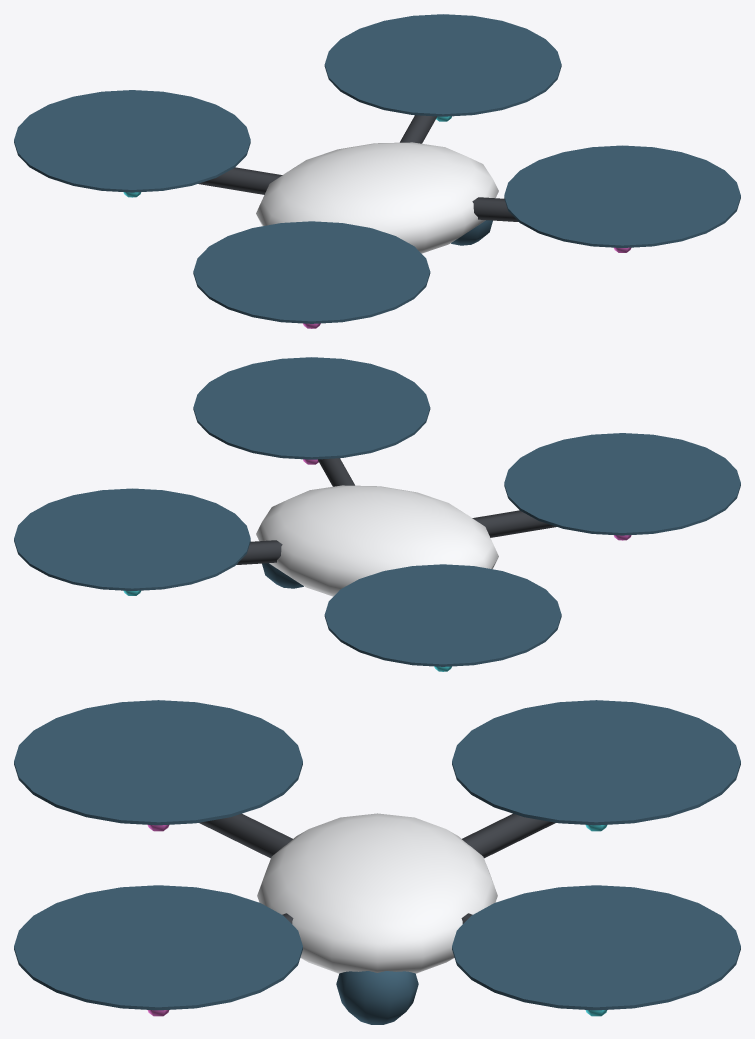
Rendered from SM_Drone.fbx.
The picture shows the model from 3 angles, top to bottom: view 1: azimuth 30°, elevation 25°; view 2: azimuth 150°, elevation 25°; view 3: azimuth 270°, elevation 25°; orthographic projection. The views are drawn at different scales.
Visible parts, largest first — view 1: SM_Drone; view 2: SM_Drone; view 3: SM_Drone.
Boxes of the visible parts, box(x1,y1,x2,y2) form: SM_Drone: box(14, 14, 740, 328); SM_Drone: box(14, 357, 740, 671); SM_Drone: box(14, 700, 740, 1024).
Size of the model in its own units: 211 by 39.75 by 211.
